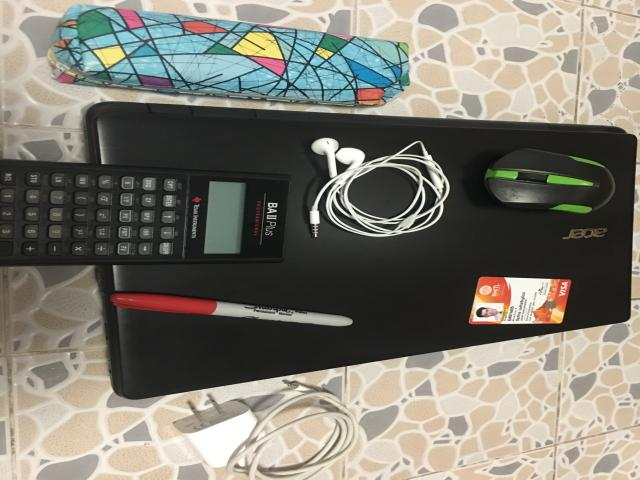Mouse: (485, 148, 615, 214)
Pen: (110, 293, 353, 326)
wire: (308, 138, 450, 237)
